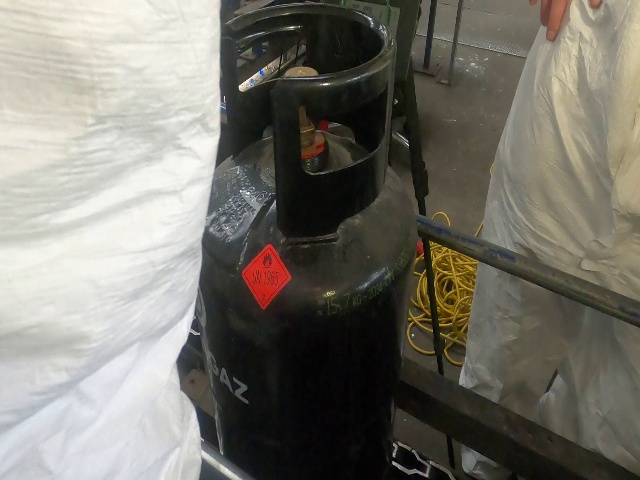gas_bottle: (2, 3, 640, 480)
